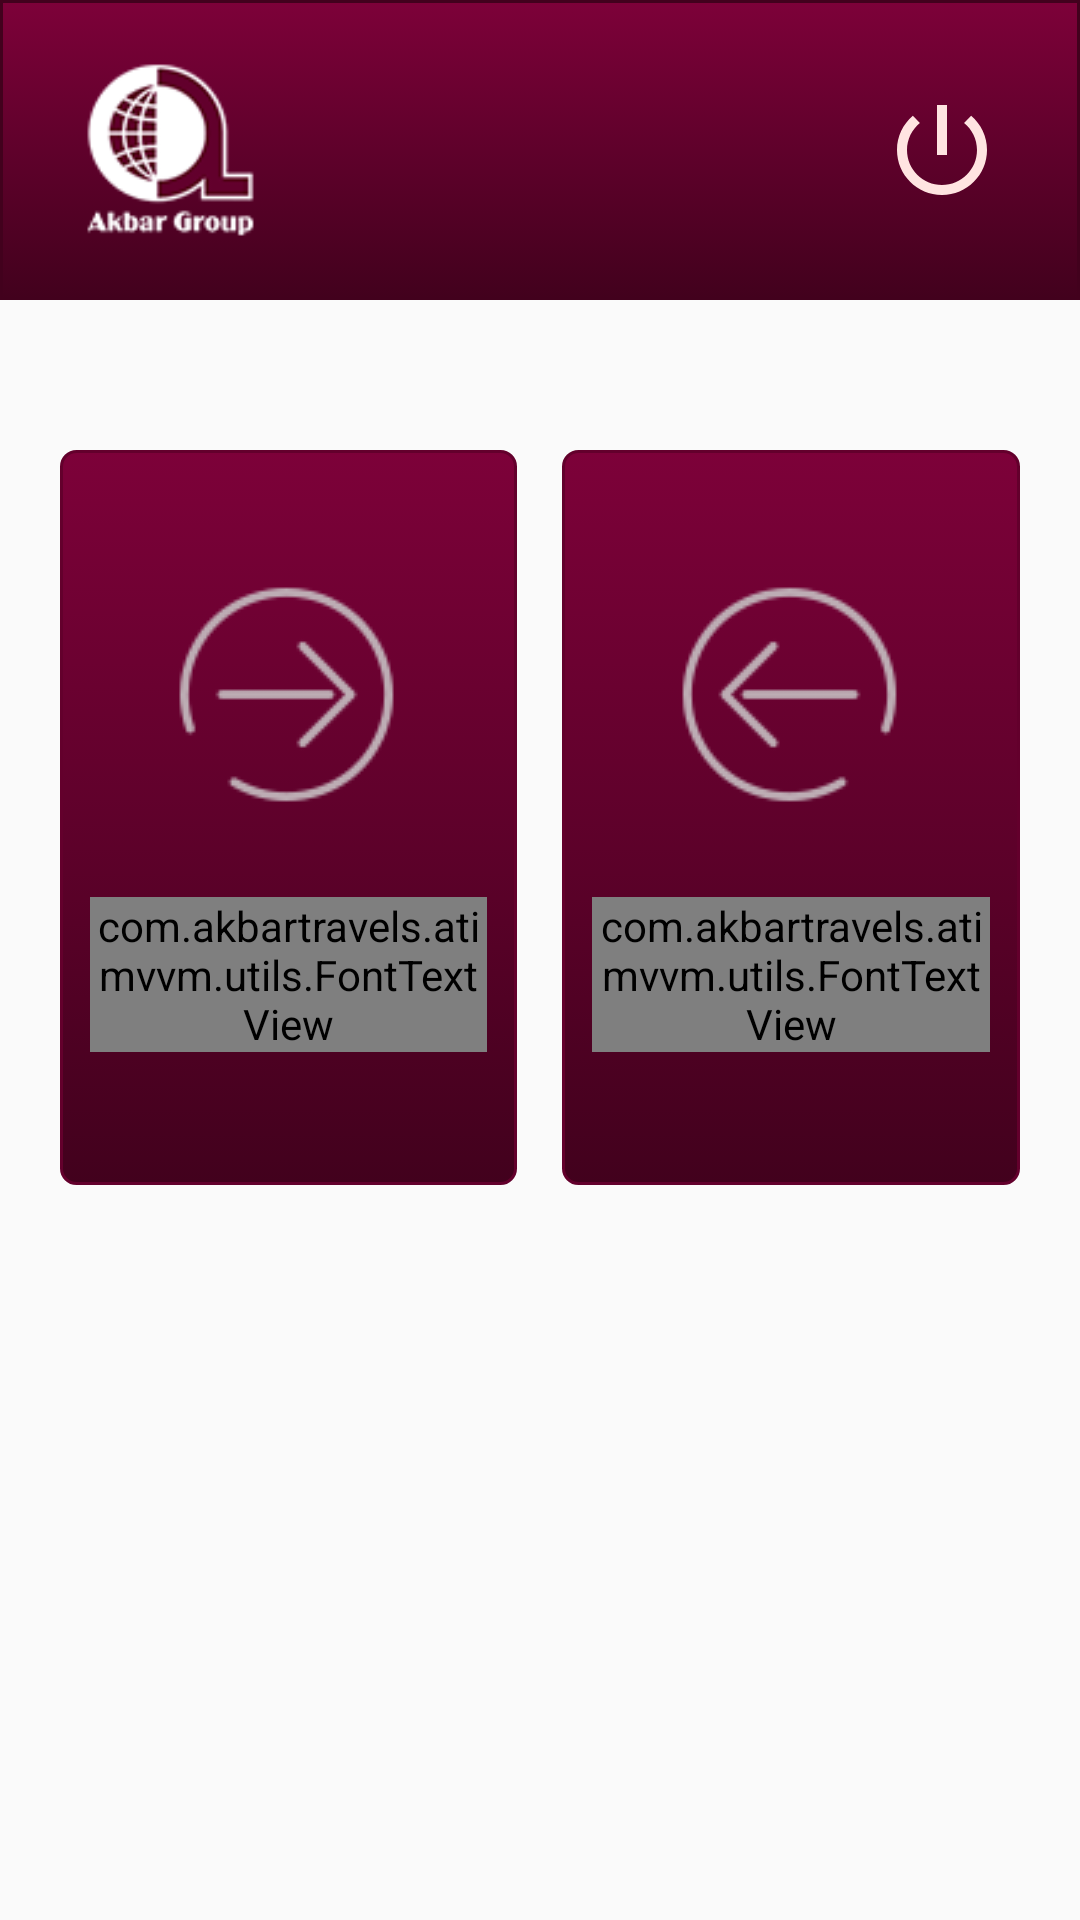

Icons on this 1080×1920 Android screen, each with its box as bbox=[x1, y1, x2, y2]:
sign out: bbox=[882, 90, 1002, 195]
